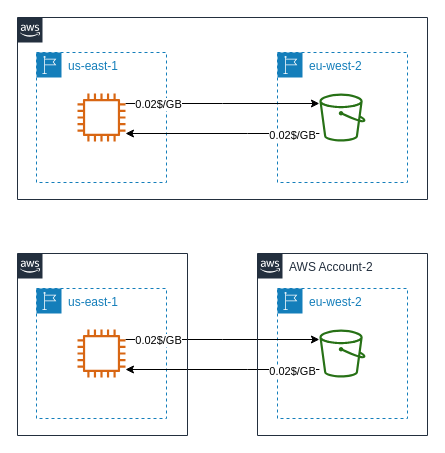
Image size: 445x453. Some labels were removed from this diagram. The box of each missing label's shape, as (x1, y1, x2, y2) in pixels:
AWS Account-1: (16, 252, 188, 436)
AWS Cloud: (16, 16, 428, 200)
